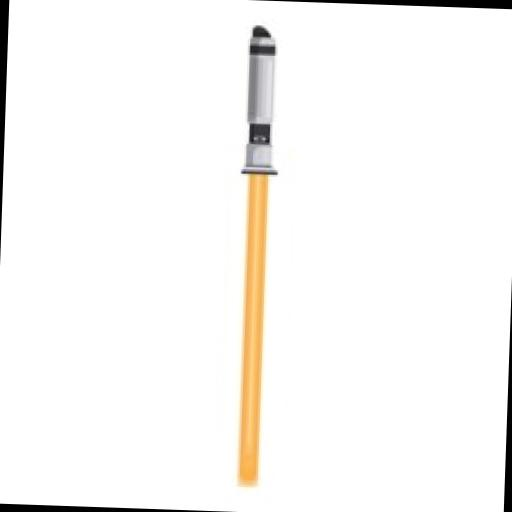lightsaber: (230, 25, 282, 490)
